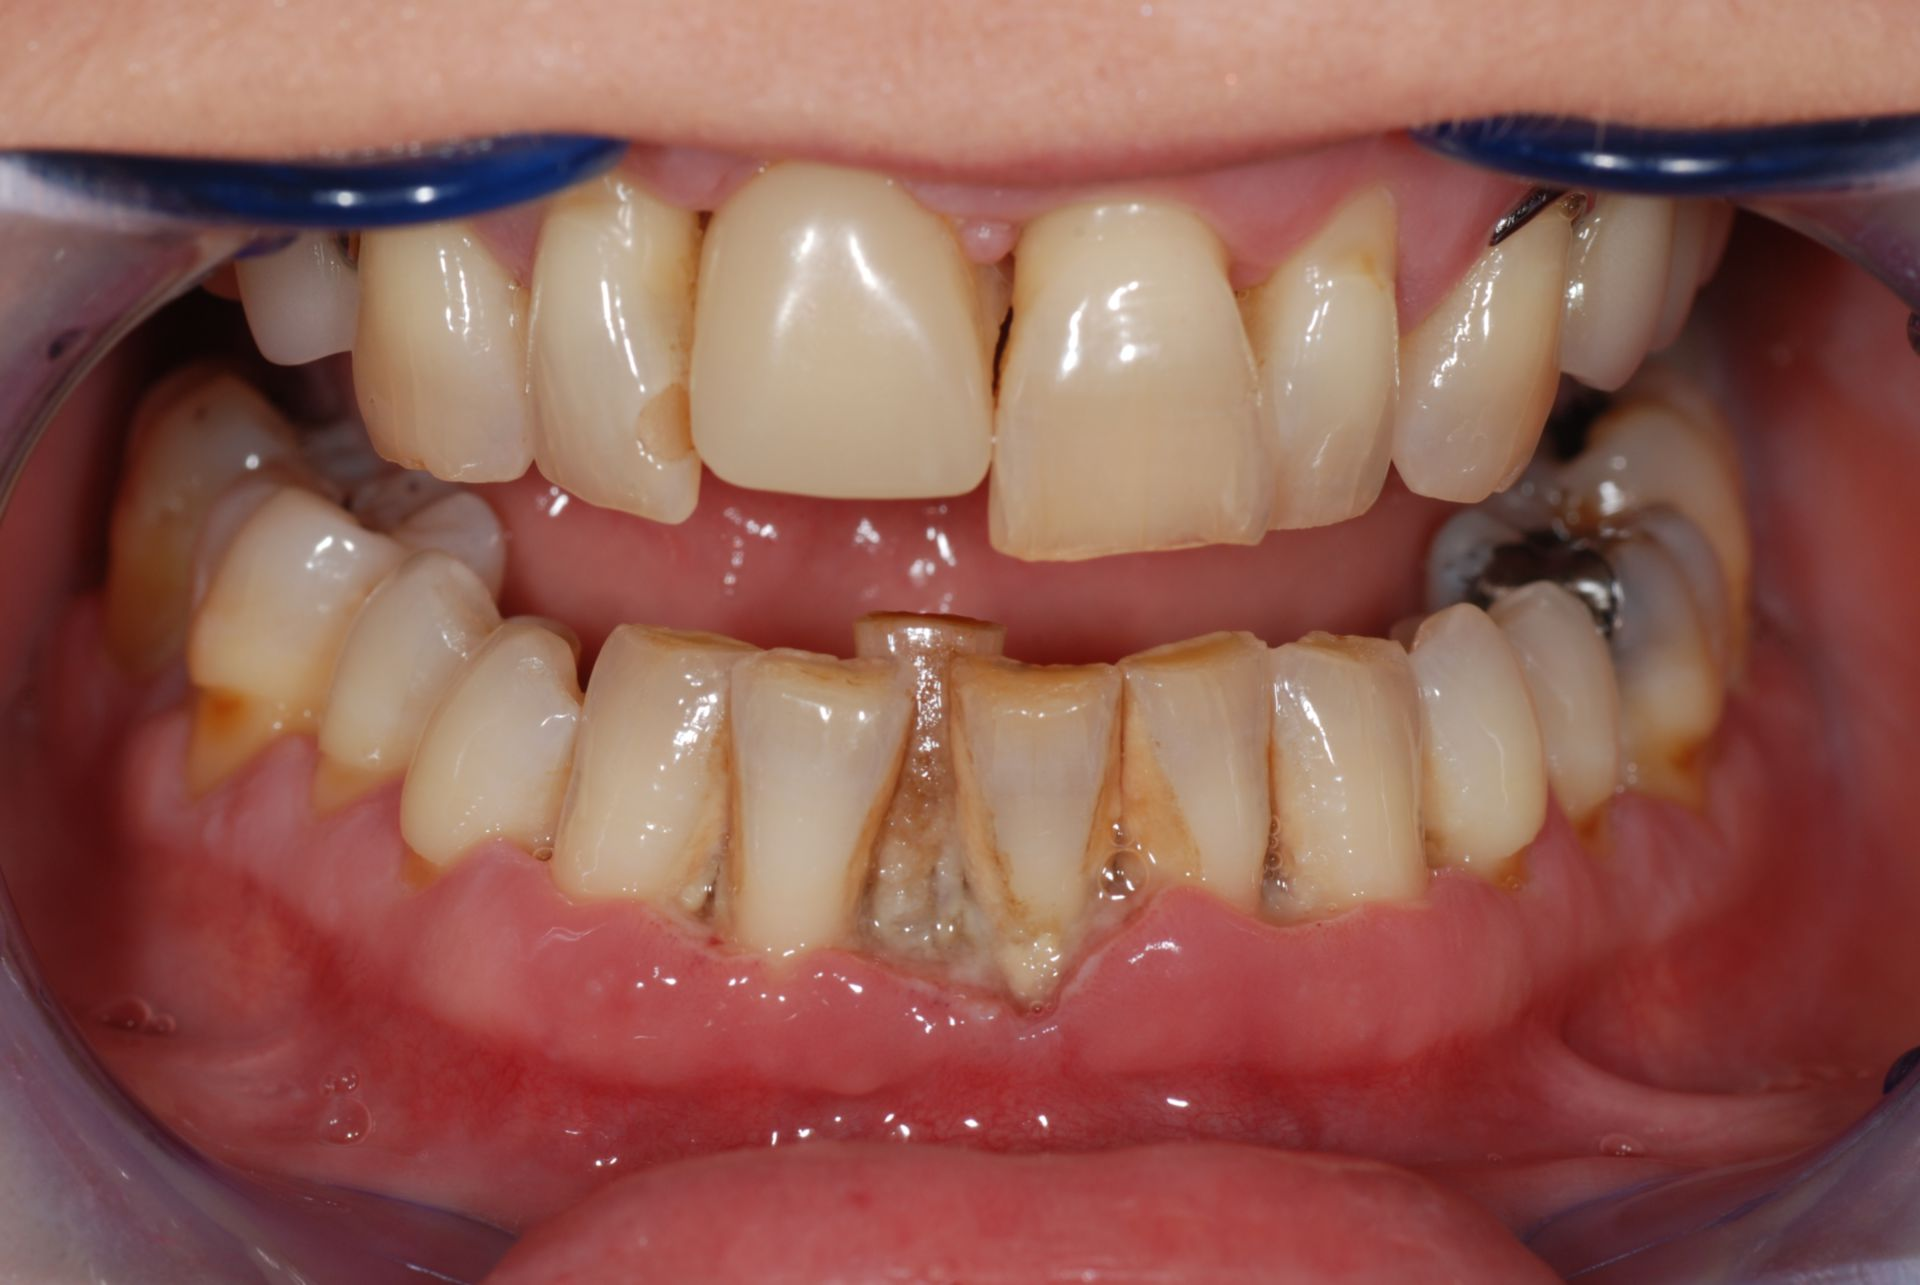LL1BC_healthy: (1402, 588, 1544, 888)
LL1M_decay: (1511, 492, 1755, 763)
LL2BC_healthy: (1506, 564, 1626, 838)
LLCI_decay: (971, 653, 1124, 1023)
LLC_decay: (1270, 630, 1434, 914)
LLLI_decay: (1101, 617, 1286, 931)
LR1BC_decay: (413, 615, 582, 886)
LR1M_decay: (191, 480, 374, 792)
LR2BC_healthy: (311, 558, 496, 806)
LRCI_decay: (878, 604, 978, 967)
LRC_decay: (571, 631, 731, 924)
LRLI_decay: (731, 640, 899, 980)
UL1BC_healthy: (1572, 196, 1673, 400)
ULCI_healthy: (1001, 211, 1278, 556)
ULC_healthy: (1392, 196, 1577, 506)
ULLI_healthy: (1260, 189, 1410, 534)
URCI_healthy: (694, 151, 1005, 515)
URC_healthy: (351, 225, 546, 479)
URLI_decay: (526, 181, 701, 536)
